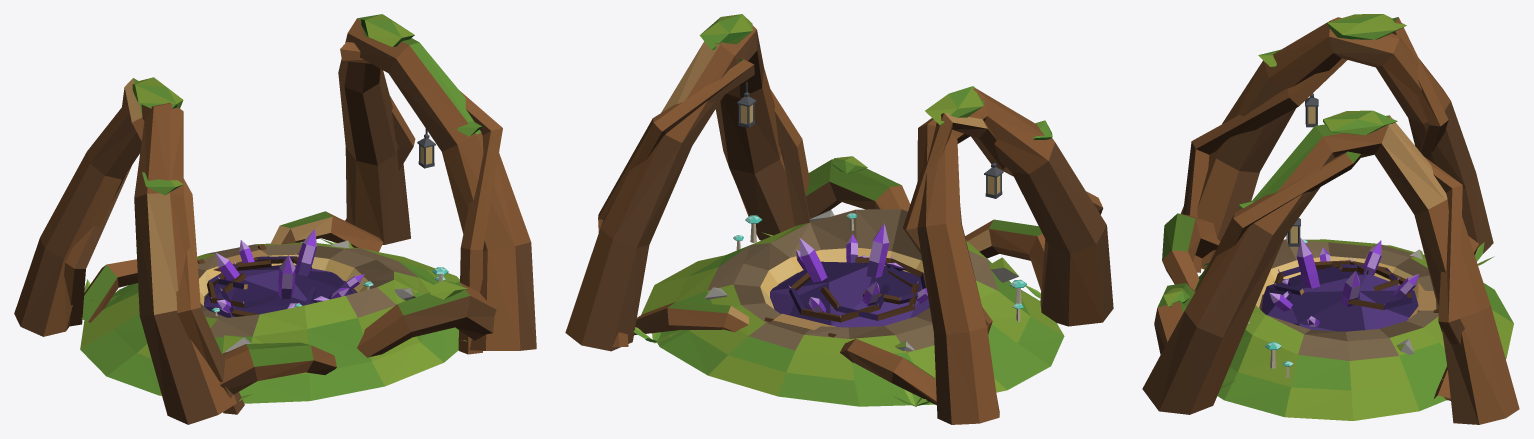
File: burrow_hollow.glb
3 renders of one model, left to right at view 1: azimuth 30°, elevation 25°; view 2: azimuth 150°, elevation 25°; view 3: azimuth 270°, elevation 25°, orthographic. The views are drawn at different scales.
Visible parts, largest first — view 1: burrow_hollow, seal, glow; view 2: burrow_hollow, seal, glow; view 3: burrow_hollow, seal, glow.
Boxes of the visible parts, x1,y1,x2,y2 form: burrow_hollow: (14, 14, 536, 424); seal: (204, 229, 364, 317); glow: (199, 254, 368, 305); burrow_hollow: (565, 14, 1113, 424); seal: (770, 223, 929, 327); glow: (760, 247, 924, 309); burrow_hollow: (1142, 14, 1519, 424); seal: (1261, 237, 1419, 331); glow: (1255, 256, 1423, 312).
Size of the model in its own units: 4.46 by 2.88 by 3.63.
